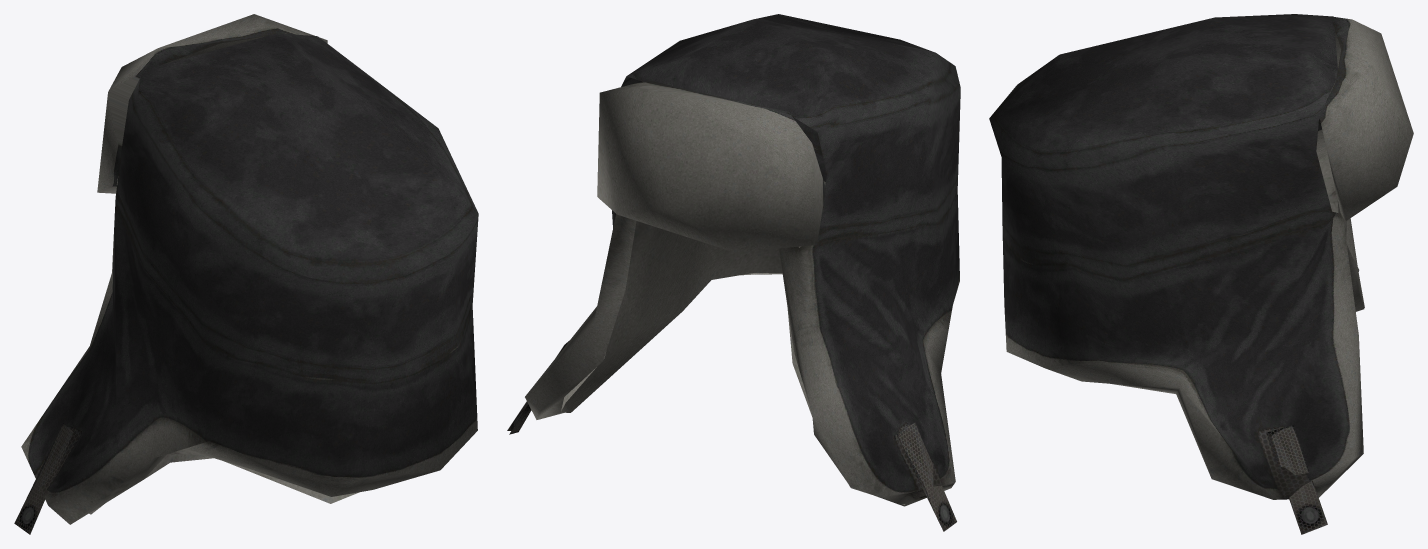
File: crutchhat.fbx
3 renders of one model, left to right at view 1: azimuth 30°, elevation 25°; view 2: azimuth 150°, elevation 25°; view 3: azimuth 270°, elevation 25°, orthographic. The views are drawn at different scales.
Parts seen in each view (by area): view 1: Object_2; view 2: Object_2; view 3: Object_2.
Boxes of the visible parts, left/top/right/bottom form: Object_2: left=14, top=14, right=478, bottom=534; Object_2: left=507, top=14, right=960, bottom=531; Object_2: left=989, top=14, right=1413, bottom=534.
Bounding box in the file's own units: 237 × 221 × 213.
